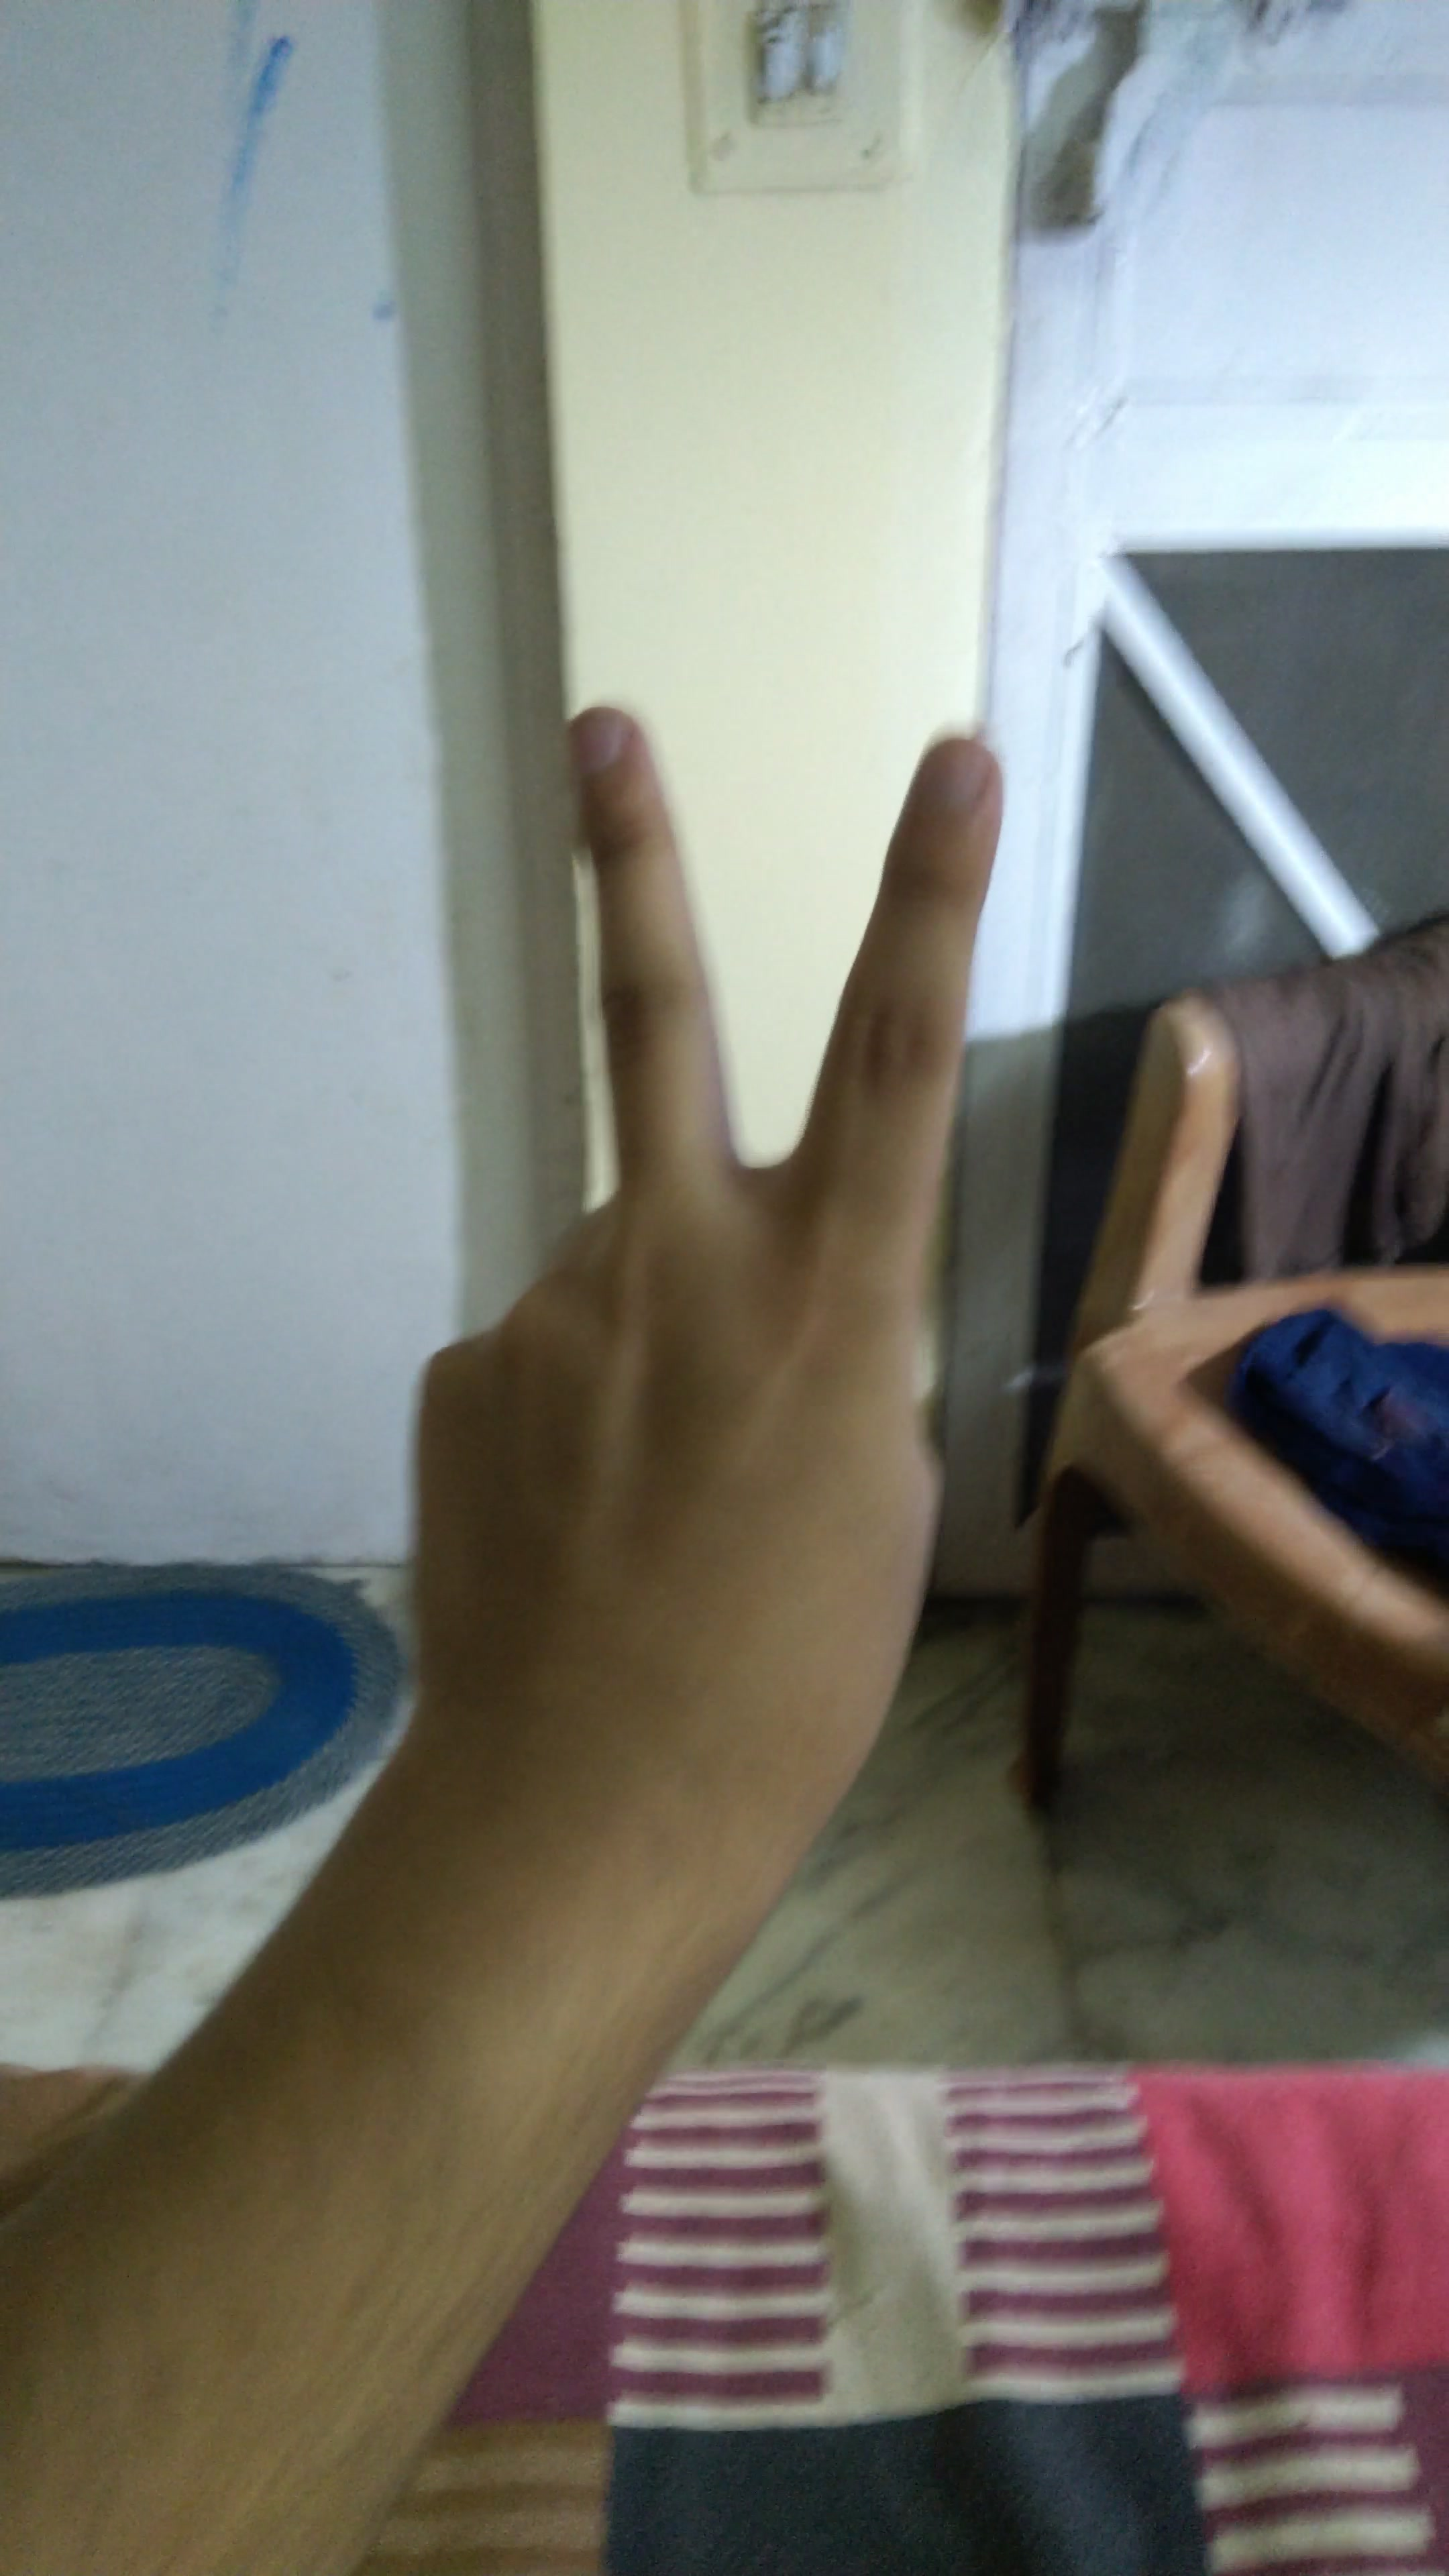hand: (196, 676, 1122, 1891)
